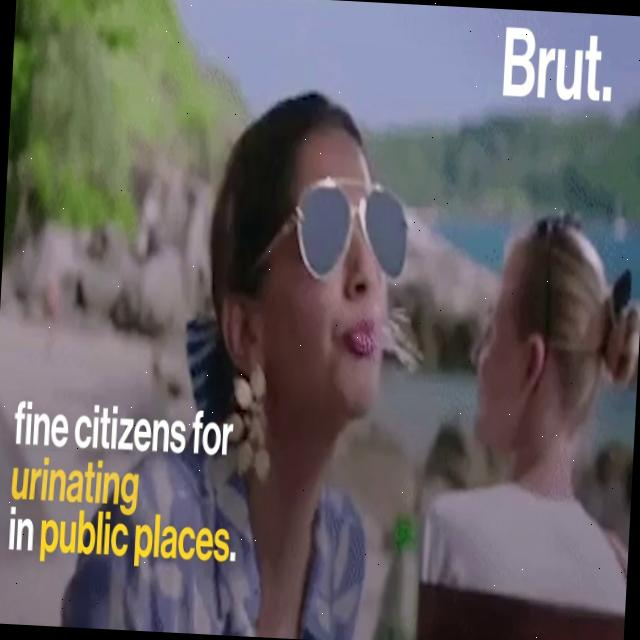spit: (274, 149, 476, 486)
